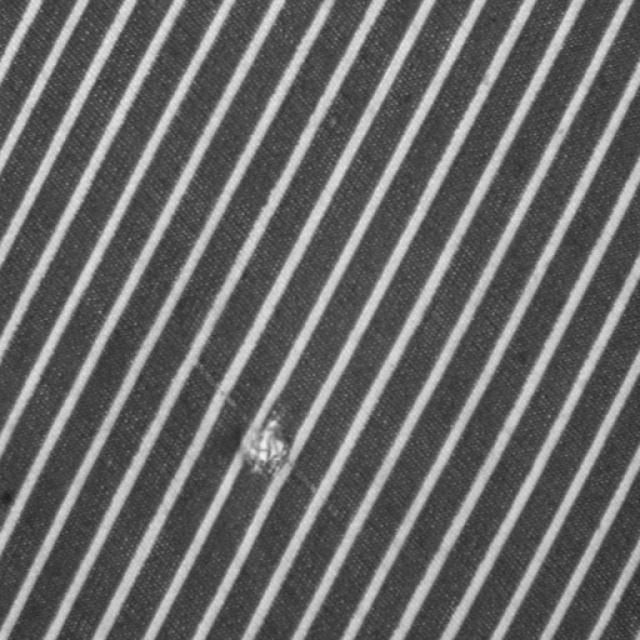Hole-Defect: (185, 356, 320, 498)
